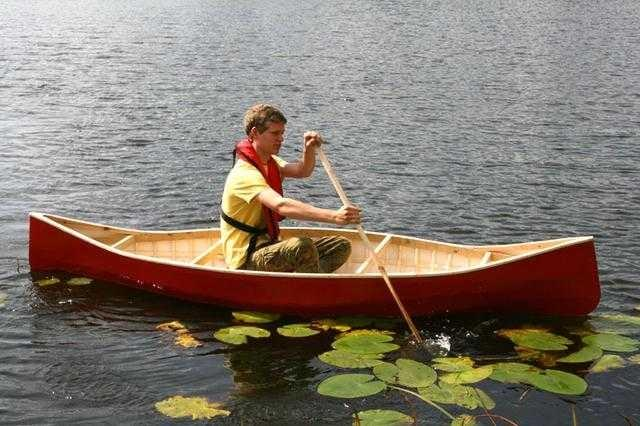kayak: (27, 209, 605, 322)
